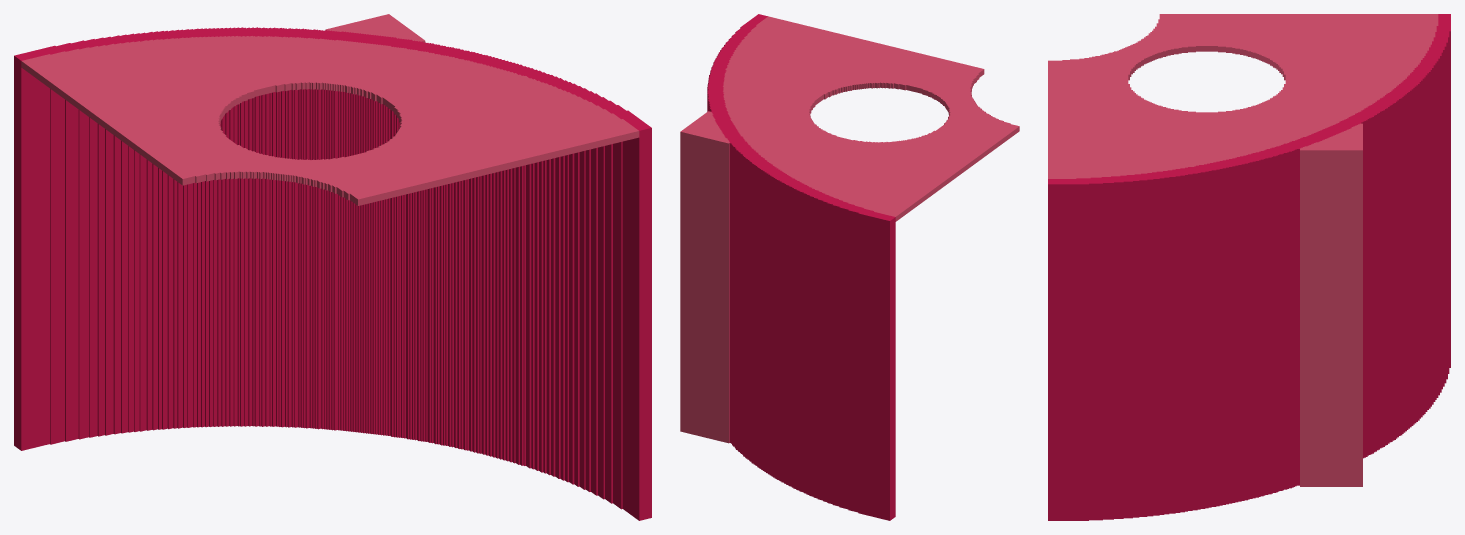
File: base_with_flag_elements-18.obj
3 renders of one model, left to right at view 1: azimuth 30°, elevation 25°; view 2: azimuth 150°, elevation 25°; view 3: azimuth 270°, elevation 25°, orthographic. The views are drawn at different scales.
Bounding box in the file's own units: 25.6 × 23.6 × 25.6.
1 material, 1 textured.
